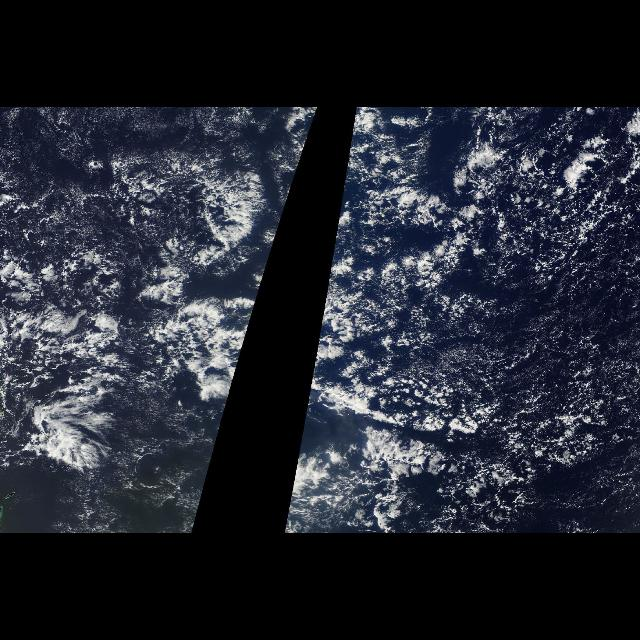Fish: (9, 153, 268, 464)
Gravel: (364, 134, 640, 532), (25, 242, 152, 320)
Sugar: (120, 398, 198, 532), (5, 108, 113, 182)
